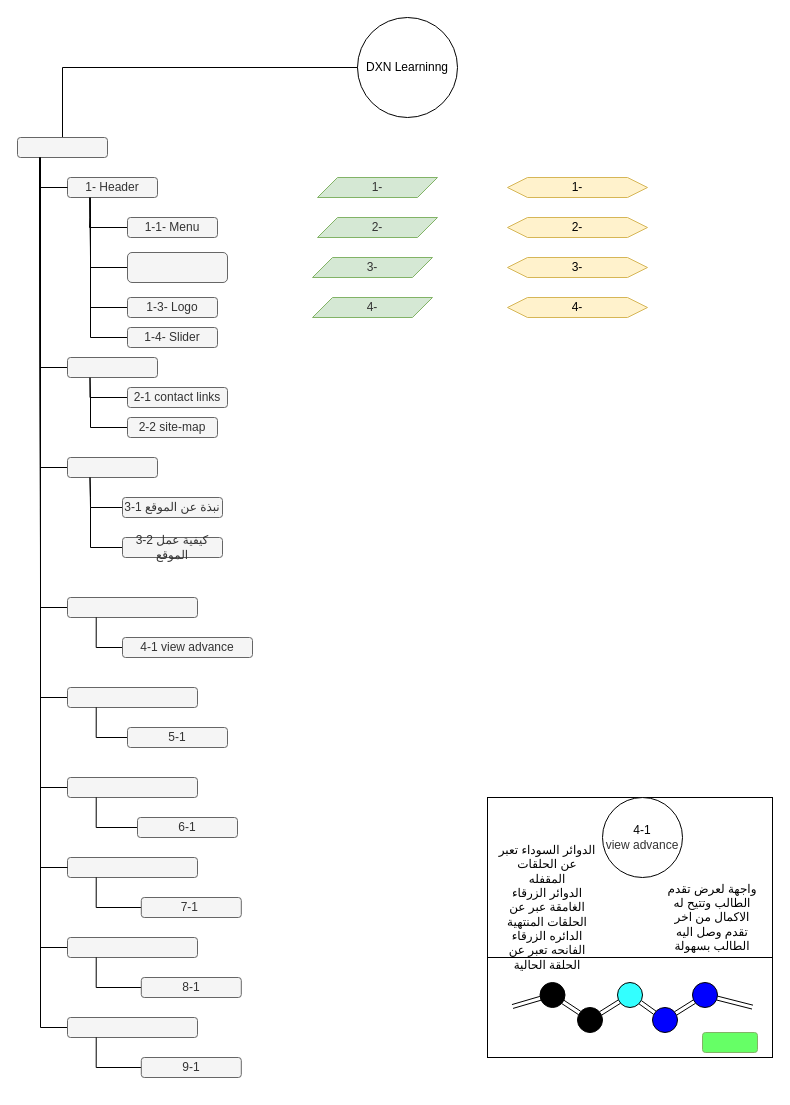
The diagram is 790 pixels wide and 1105 high, and some of its shapes have lost their labels. Here are the shapes that lost their labels. From the top down, the centre of each, then its label:
At pixel 62 147: "Front-End".
At pixel 177 267: "1-2- Presentation Image".
At pixel 112 367: "2- Footer".
At pixel 112 467: "3- Home Page".
At pixel 132 607: "4- Student Dashboard".
At pixel 132 697: "5- Teacher Dashboard".
At pixel 132 787: "6- Admin Dashboard".
At pixel 132 867: "7- About Us".
At pixel 132 947: "8- Login Page".
At pixel 132 1027: "9- create User Page".
At pixel 730 1042: "اكمل التعلم".
